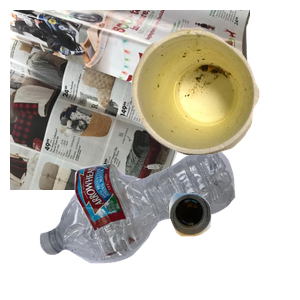glass: (166, 190, 300, 300)
paper: (10, 10, 250, 190)
plastic: (37, 144, 265, 300)
trash: (129, 25, 300, 173)
